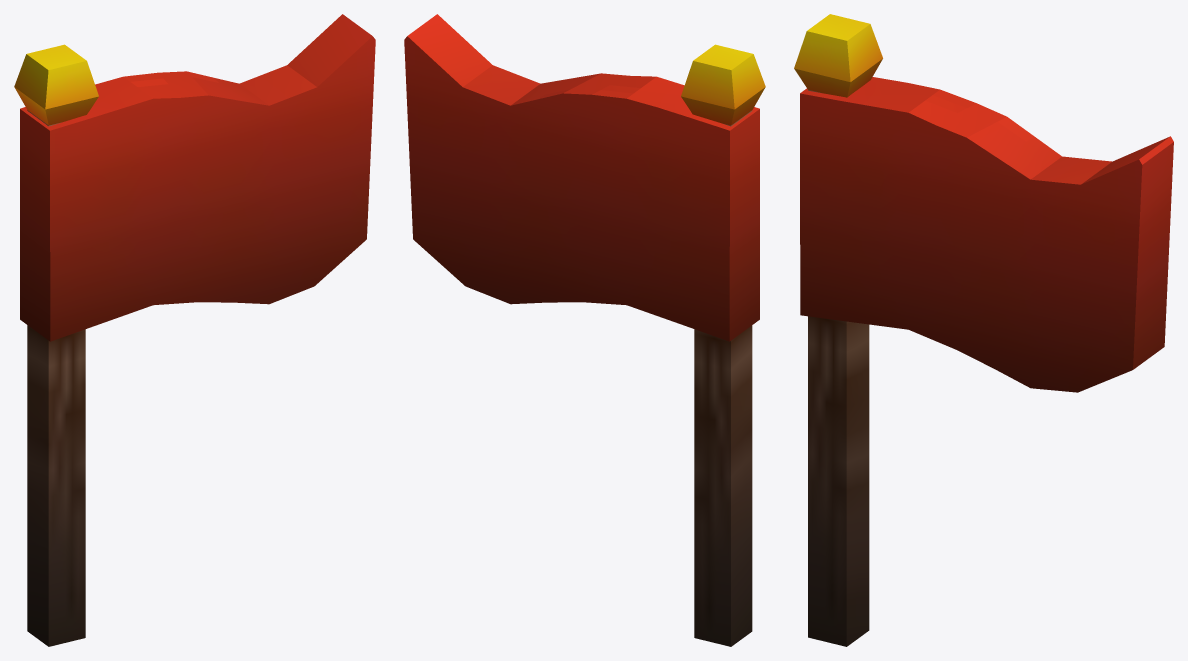
The model's file is venue-flag.glb.
3 views of the same model, side by side, from view 1: azimuth 30°, elevation 25°; view 2: azimuth 150°, elevation 25°; view 3: azimuth 330°, elevation 25° (orthographic). The views are drawn at different scales.
Parts seen in each view (by area): view 1: Cube.019_0; view 2: Cube.019_0; view 3: Cube.019_0.
Part boxes in pixels (bbox=[...]): Cube.019_0: bbox=[14, 14, 375, 646]; Cube.019_0: bbox=[404, 14, 765, 646]; Cube.019_0: bbox=[794, 14, 1173, 646].
Size of the model in its own units: 1.04 by 1.73 by 0.1689.
Materials: 1 (1 with a texture image).
